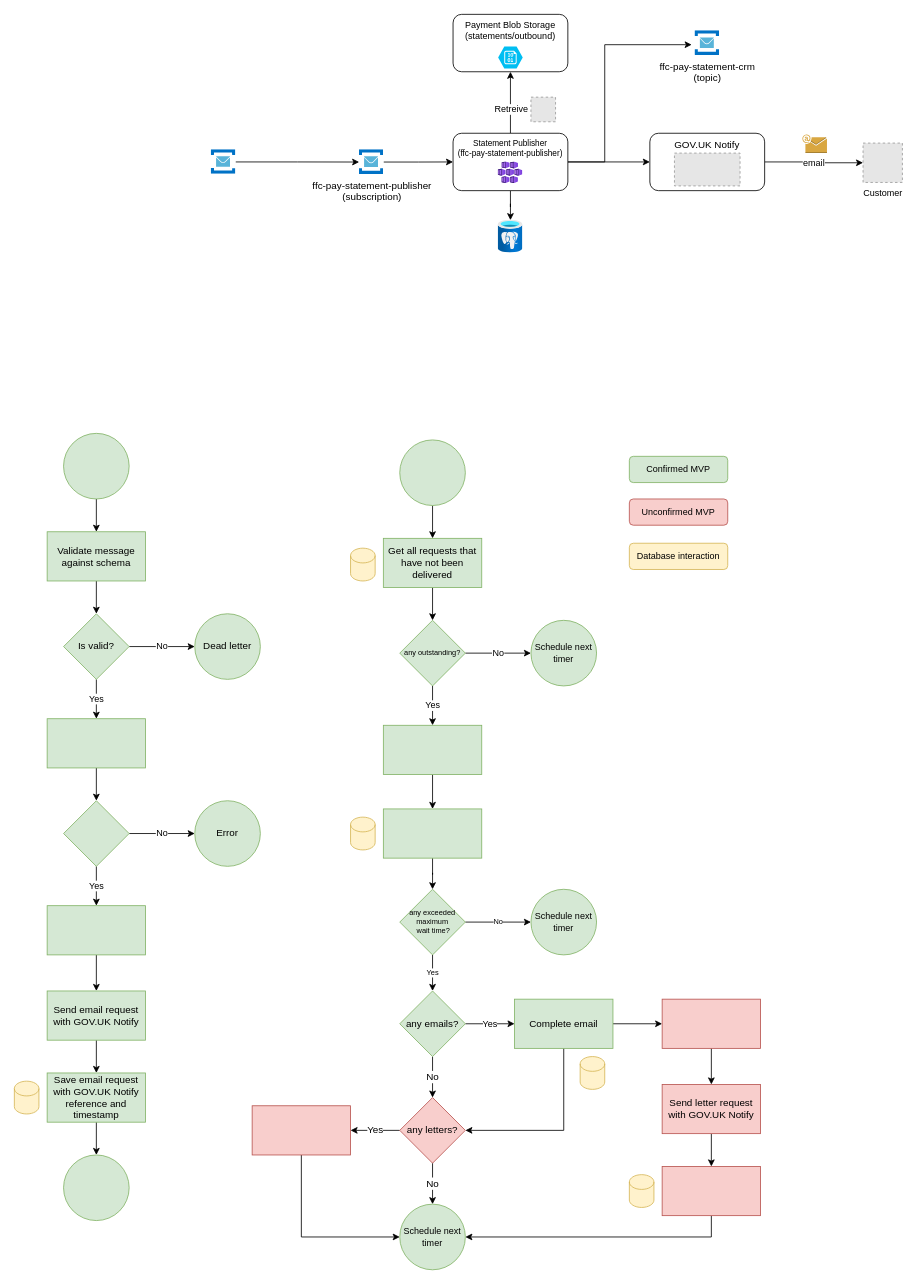
Some shapes in this 917 by 1284 pixel diagram are drawn without their labels. Grey dashed boxes stand in for pictures. Each missing label, with the centre of its shape:
Build email request: point 96,930
Build letter request: point 711,1023
Check GOV.UK Notify status: point 432,749
Check statement exists in blob storage: point 96,743
ffc-pay-statement-publish (topic): point 223,161
Message Completed: point 96,1187
Message received: point 96,466
publishing database: point 510,236
Raise error event and mark request completed: point 301,1130
Save letter request with GOV.UK Notify reference and timestamp: point 711,1191
Statement exists?: point 96,833
Timer: point 432,472
Update delivery status: point 432,833
